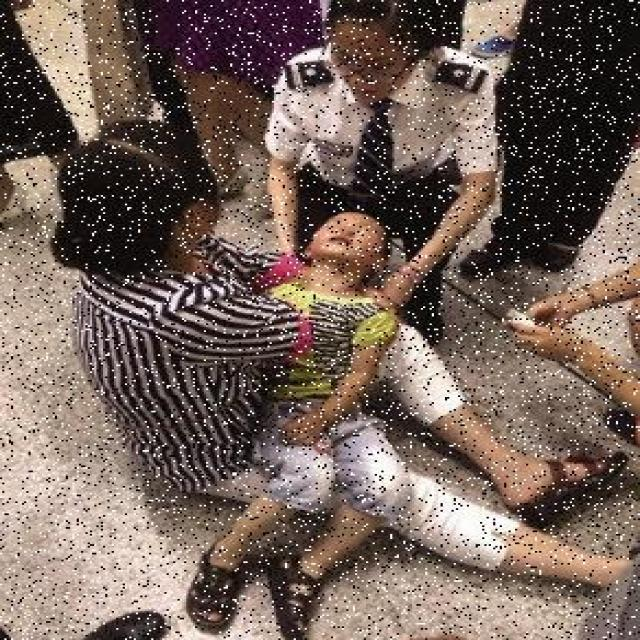fall: (206, 210, 414, 610)
